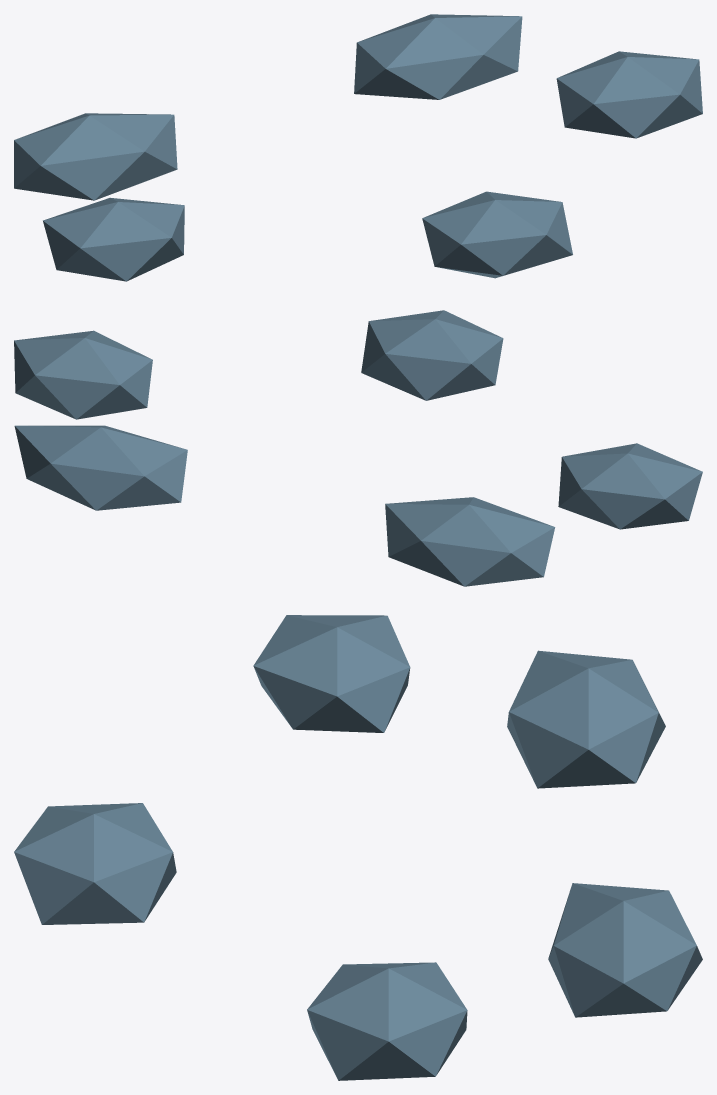
Rendered from enfeite_seixos.glb.
The picture shows the model from 3 angles, top to bottom: view 1: azimuth 30°, elevation 25°; view 2: azimuth 150°, elevation 25°; view 3: azimuth 270°, elevation 25°; orthographic projection. The views are drawn at different scales.
Parts seen in each view (by area): view 1: neve_enfeite_seixos; view 2: neve_enfeite_seixos; view 3: neve_enfeite_seixos.
Boxes of the visible parts, x1=… form: neve_enfeite_seixos: x1=14, y1=14, x2=702, y2=281; neve_enfeite_seixos: x1=14, y1=310, x2=702, y2=586; neve_enfeite_seixos: x1=14, y1=615, x2=702, y2=1080.
Size of the model in its own units: 0.4473 by 0.0523 by 0.3027.
